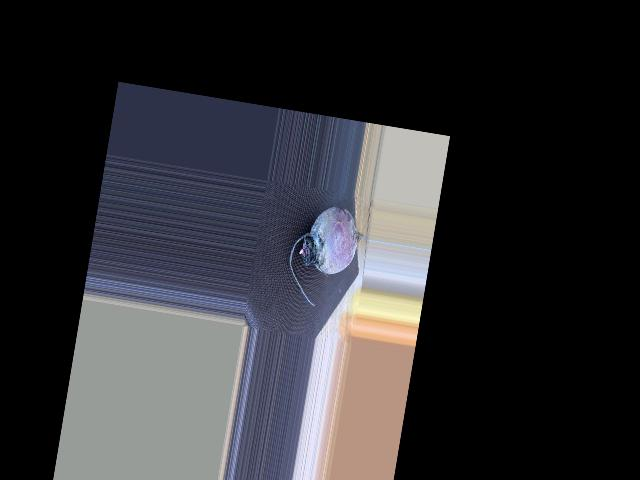beet: (282, 199, 373, 313)
